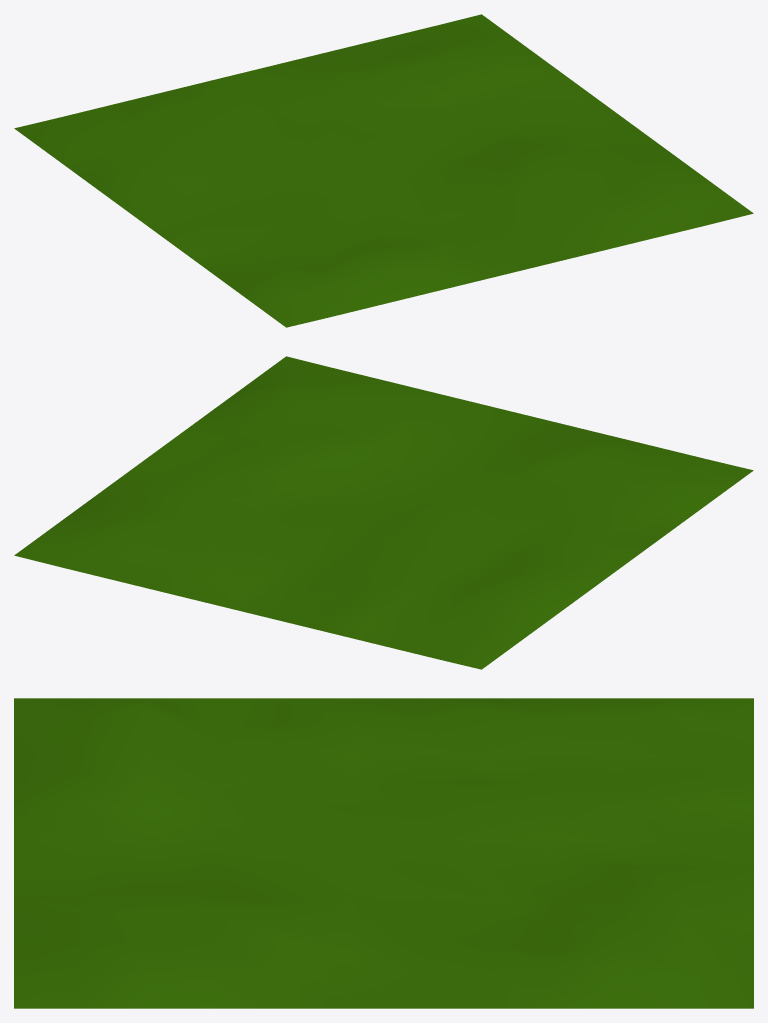
Rendered from Cave T.fbx.
3 renders of one model, top to bottom at view 1: azimuth 30°, elevation 25°; view 2: azimuth 150°, elevation 25°; view 3: azimuth 270°, elevation 25°, orthographic. The views are drawn at different scales.
Visible parts, largest first — view 1: Snow.005; view 2: Snow.005; view 3: Snow.005.
Boxes of the visible parts, x1,y1,x2,y2 form: Snow.005: (14,14,753,327); Snow.005: (14,356,753,669); Snow.005: (14,698,753,1008).
Bounding box in the file's own units: 200 × 8.03 × 202.
